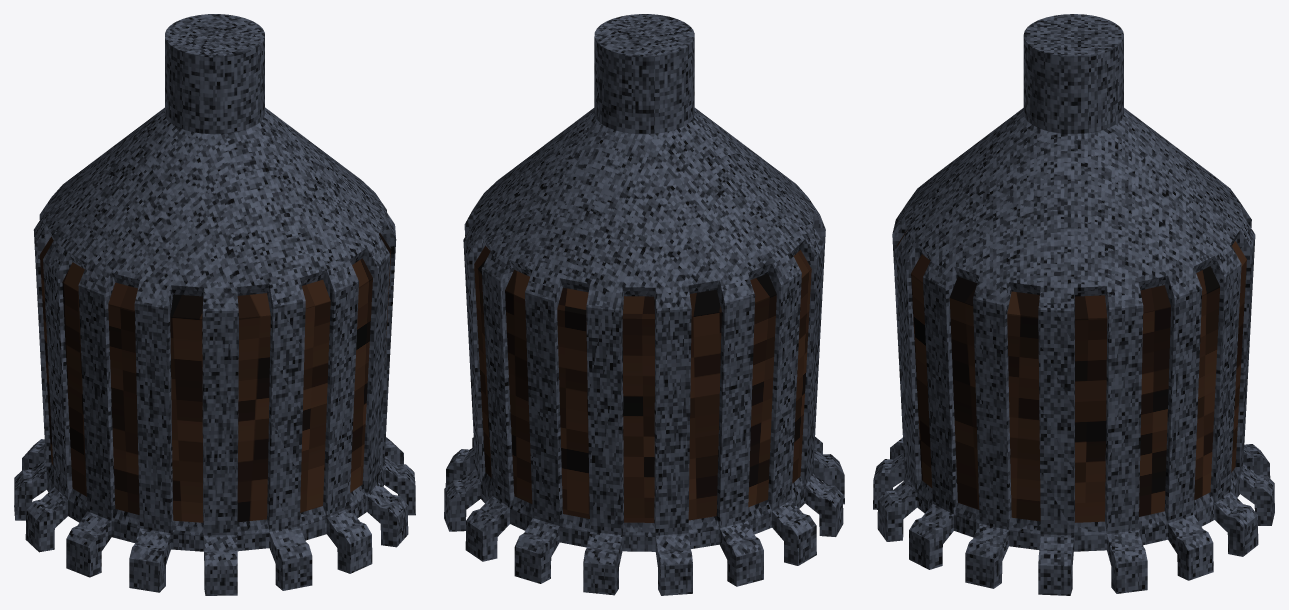
Rendered from Boiler.fbx.
3 renders of one model, left to right at view 1: azimuth 30°, elevation 25°; view 2: azimuth 150°, elevation 25°; view 3: azimuth 270°, elevation 25°, orthographic.
Visible parts, largest first — view 1: Boiler; view 2: Boiler; view 3: Boiler.
Boxes of the visible parts, x1,y1,x2,y2 form: Boiler: (14, 14, 415, 595); Boiler: (444, 14, 844, 595); Boiler: (873, 14, 1274, 595).
Bounding box in the file's own units: 2.37 × 3.1 × 2.37.
2 materials, 2 textured.
